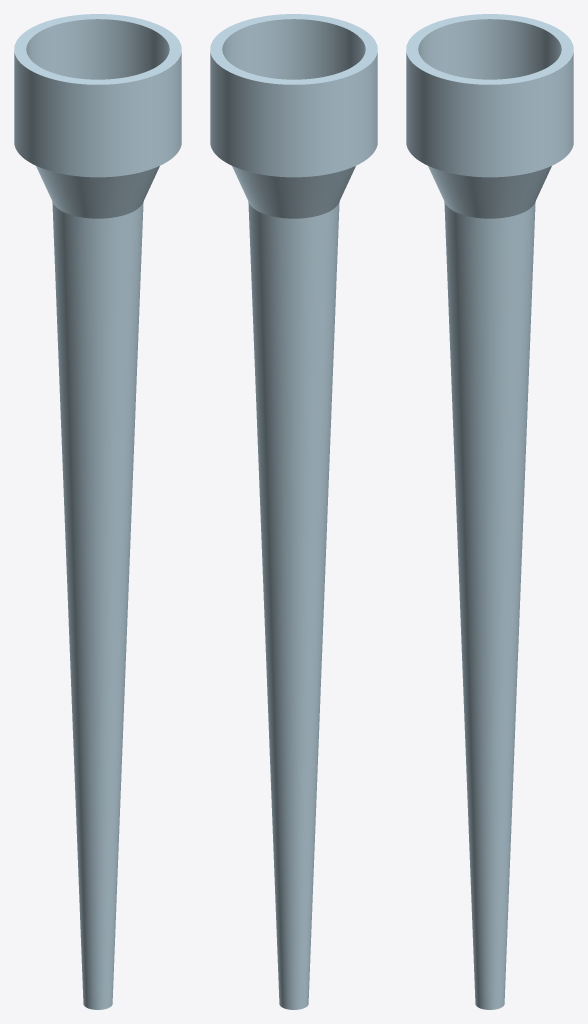
3 views of the same model, side by side, from view 1: azimuth 30°, elevation 25°; view 2: azimuth 150°, elevation 25°; view 3: azimuth 270°, elevation 25° (orthographic).
Parts seen in each view (by area): view 1: Part 1; view 2: Part 1; view 3: Part 1.
Part boxes in pixels (bbox=[...]): Part 1: bbox=[14, 14, 181, 1009]; Part 1: bbox=[210, 14, 377, 1009]; Part 1: bbox=[406, 14, 573, 1009].
Bounding box in the file's own units: 0.00413 × 0.0259 × 0.00413.
